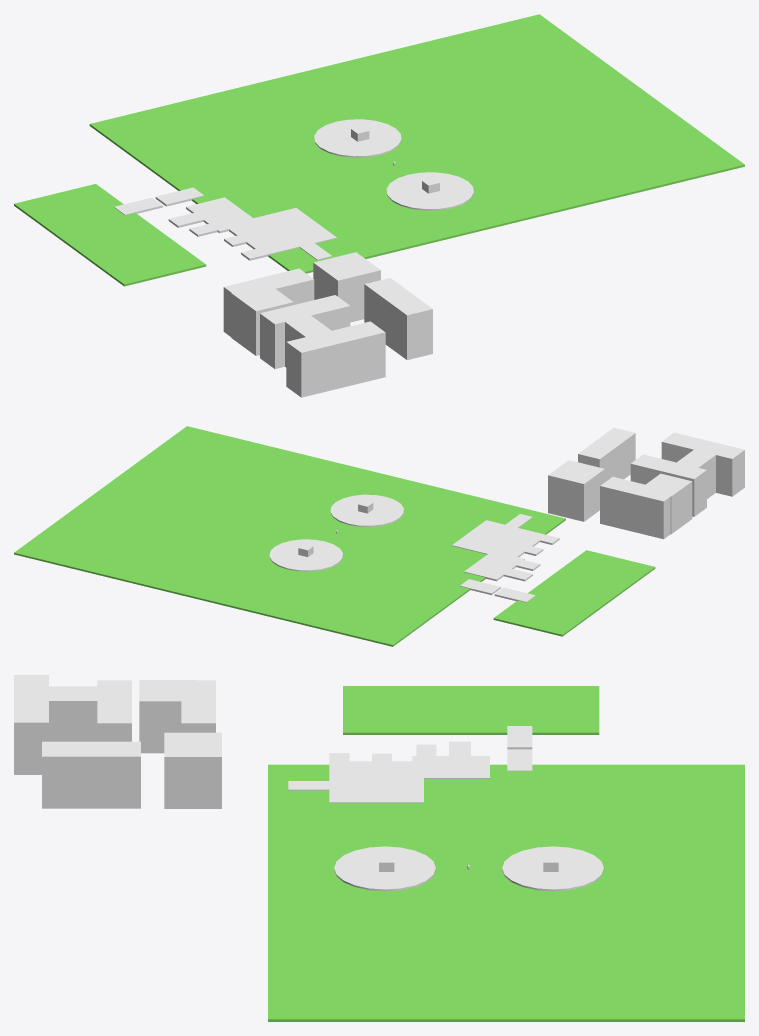
File: Map for life in a night.fbx
The picture shows the model from 3 angles, top to bottom: view 1: azimuth 30°, elevation 25°; view 2: azimuth 150°, elevation 25°; view 3: azimuth 270°, elevation 25°; orthographic projection. The views are drawn at different scales.
Parts seen in each view (by area): view 1: Skull, jaw, house format 3 (2), house format 2, house format 1, Dock (5), house format 3 (1), fountain floor, fountain floor (1), house format 4 (1), house format 4, house format 3 (+1 smaller); view 2: Skull, jaw, house format 4 (1), house format 1, house format 3 (2), Dock (5), house format 2, fountain floor (1), house format 3 (1), fountain floor, house format 4, house format 3 (+3 smaller); view 3: Skull, jaw, house format 2, house format 1, Dock (5), house format 3, fountain floor (1), fountain floor, house format 4, house format 3 (2), house format 4 (1), Dock (4) (+5 smaller).
Boxes of the visible parts, bbox=[...] form: Skull: bbox=[89, 14, 744, 273]; jaw: bbox=[14, 184, 206, 286]; house format 3 (2): bbox=[286, 321, 385, 397]; house format 2: bbox=[364, 278, 432, 359]; house format 1: bbox=[313, 252, 380, 322]; Dock (5): bbox=[224, 208, 336, 256]; house format 3 (1): bbox=[260, 295, 350, 368]; fountain floor: bbox=[386, 172, 473, 210]; fountain floor (1): bbox=[314, 119, 401, 157]; house format 4 (1): bbox=[223, 268, 314, 336]; house format 4: bbox=[231, 289, 293, 355]; house format 3: bbox=[270, 304, 344, 367]; Skull: bbox=[14, 426, 565, 646]; jaw: bbox=[493, 550, 655, 636]; house format 4 (1): bbox=[600, 477, 670, 539]; house format 1: bbox=[548, 460, 604, 521]; house format 3 (2): bbox=[661, 432, 744, 496]; Dock (5): bbox=[452, 520, 546, 559]; house format 2: bbox=[578, 427, 635, 481]; fountain floor (1): bbox=[269, 539, 342, 571]; house format 3 (1): bbox=[630, 454, 706, 516]; fountain floor: bbox=[330, 494, 403, 526]; house format 4: bbox=[640, 473, 692, 534]; house format 3: bbox=[664, 440, 727, 498]; Skull: bbox=[268, 764, 744, 1021]; jaw: bbox=[343, 686, 599, 734]; house format 2: bbox=[42, 741, 140, 808]; house format 1: bbox=[164, 732, 221, 808]; Dock (5): bbox=[329, 761, 423, 803]; house format 3: bbox=[14, 686, 131, 741]; fountain floor (1): bbox=[502, 846, 603, 891]; fountain floor: bbox=[334, 846, 435, 891]; house format 4: bbox=[139, 680, 196, 753]; house format 3 (2): bbox=[14, 675, 48, 774]; house format 4 (1): bbox=[181, 680, 215, 732]; Dock (4): bbox=[412, 756, 489, 778].
Size of the model in its own units: 30136 by 2197 by 27930.
